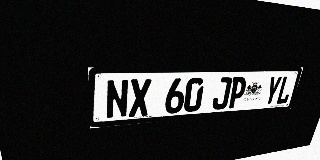0: (183, 78, 205, 112)
6: (164, 78, 187, 114)
J: (211, 77, 233, 110)
L: (275, 76, 295, 105)
N: (106, 79, 129, 119)
P: (227, 77, 248, 109)
X: (128, 79, 151, 117)
Y: (262, 76, 283, 106)
